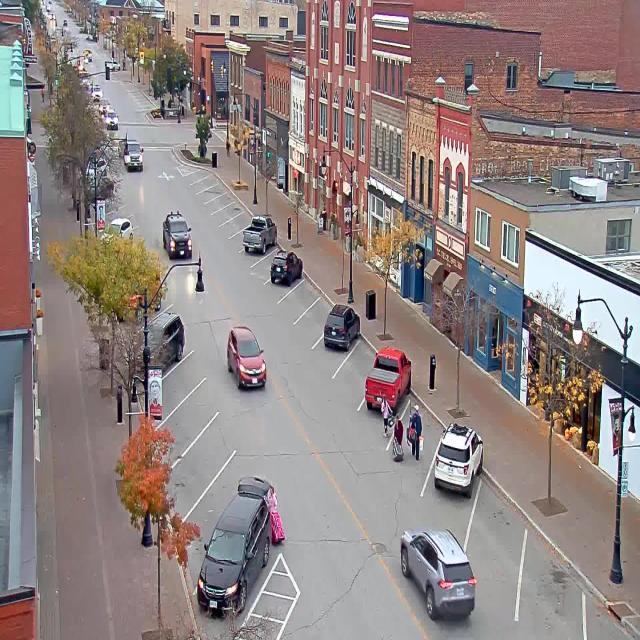available: (510, 522, 586, 624), (465, 472, 528, 568), (395, 390, 444, 462), (191, 408, 243, 472), (579, 588, 639, 640), (210, 445, 258, 504), (179, 368, 224, 429), (339, 333, 379, 395), (169, 337, 208, 395), (296, 298, 332, 344), (276, 275, 314, 314), (248, 243, 284, 281), (226, 223, 248, 255), (221, 213, 240, 241), (211, 202, 227, 228), (197, 185, 211, 209), (204, 196, 218, 217), (190, 176, 203, 195), (184, 168, 196, 184)
occupied: (196, 474, 273, 618), (434, 421, 484, 498), (364, 345, 412, 412), (143, 306, 185, 365), (323, 303, 360, 351), (242, 213, 277, 254), (270, 249, 303, 286)
